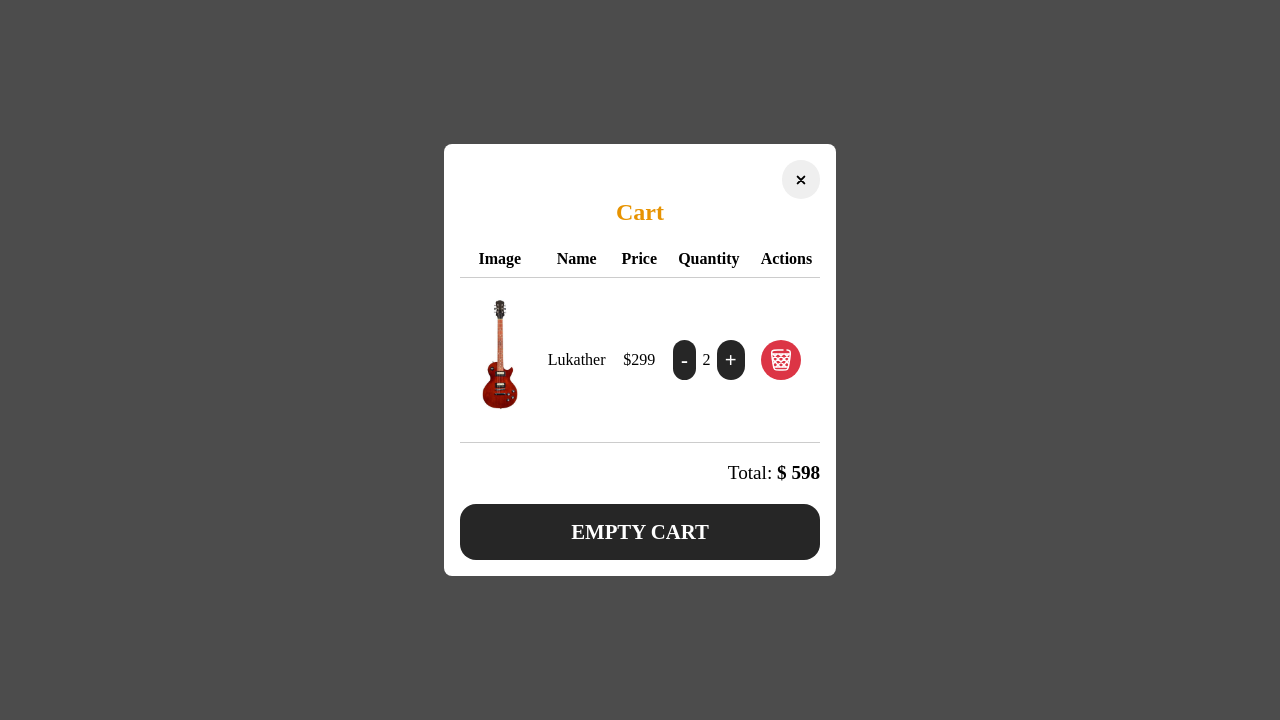
Test: Cart Test › Can add items with stepper
Expected: the text with id "stepper-qty-1" reads "2", [702, 351, 710, 368]
Click the button with id "stepper-add-button-1" at coordinates (731, 360), box [717, 340, 745, 380]
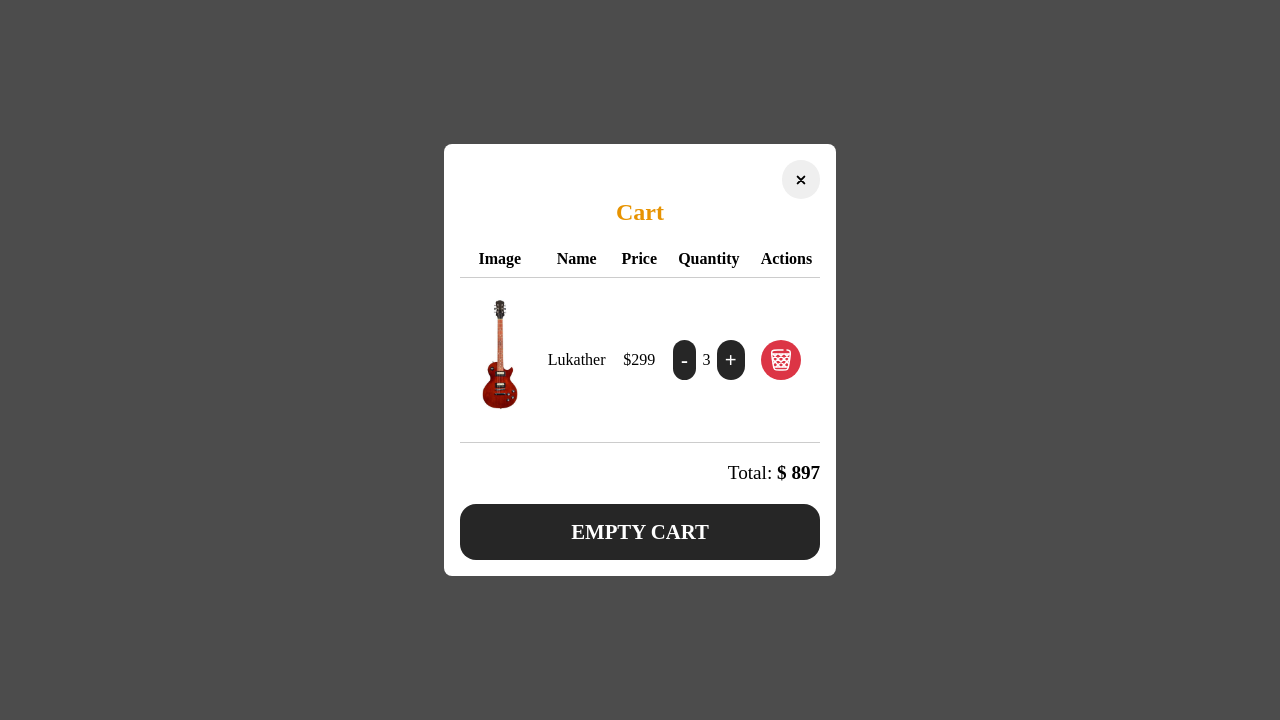
Expected: the text with id "stepper-qty-1" reads "3", [702, 351, 710, 368]
